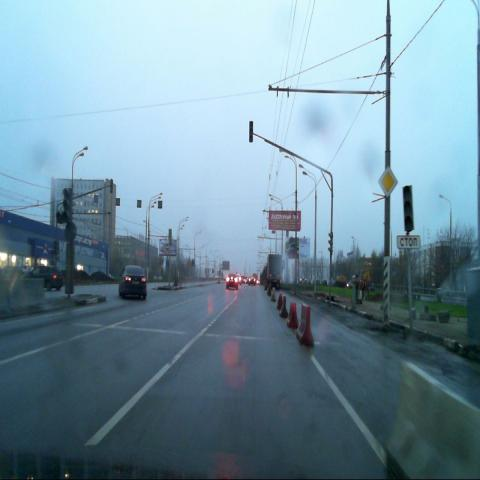2_1: (377, 165, 398, 198)
6_16: (397, 235, 420, 249)
